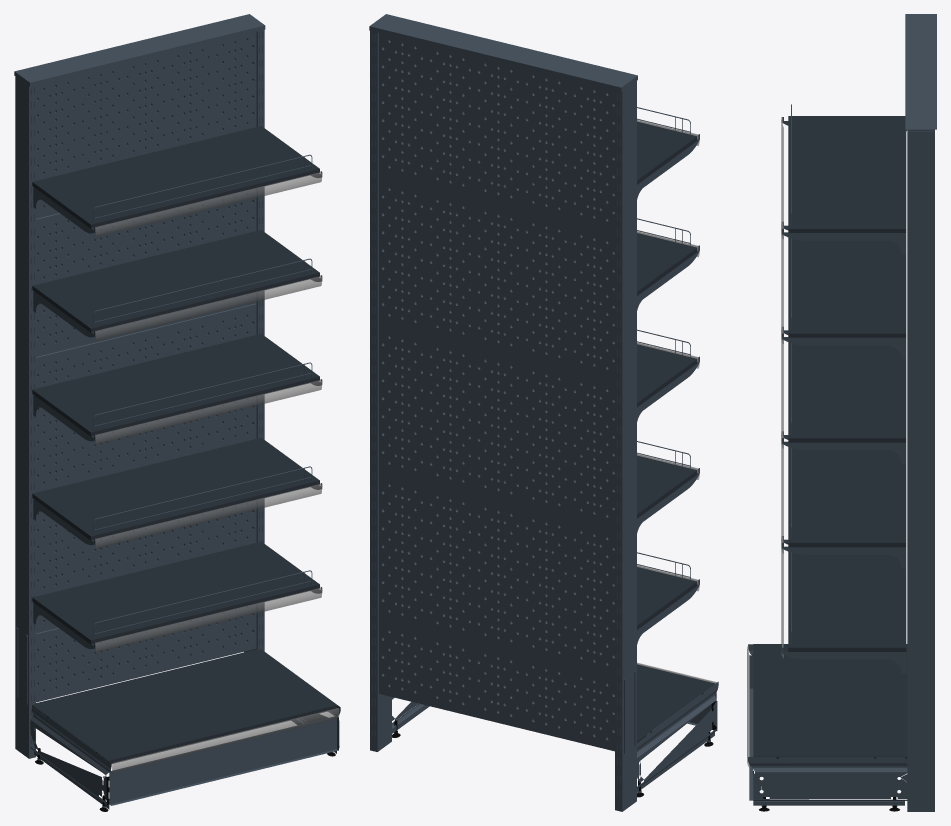
File: WALL-SHELVE-77-28.glb
3 views of the same model, side by side, from view 1: azimuth 30°, elevation 25°; view 2: azimuth 150°, elevation 25°; view 3: azimuth 270°, elevation 25° (orthographic). The views are drawn at different scales.
Bounding box in the file's own units: 0.7147 × 1.96 × 0.4931.
